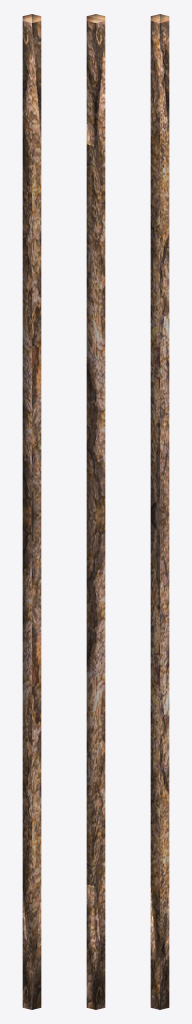
Rendered from bow_body.fbx.
3 renders of one model, left to right at view 1: azimuth 90°, elevation 25°; view 2: azimuth 150°, elevation 25°; view 3: azimuth 270°, elevation 25°, orthographic.
Visible parts, largest first — view 1: bow_body, piece_2, piece_1, piece_4, piece_3; view 2: bow_body, piece_2, piece_4; view 3: bow_body, piece_2, piece_1, piece_4, piece_3.
Boxes of the visible parts, box(x1,y1,x2,y2) form: bow_body: box(22, 25, 41, 1007); piece_2: box(22, 14, 31, 140); piece_1: box(32, 14, 41, 140); piece_4: box(22, 888, 31, 1009); piece_3: box(32, 888, 41, 1009); bow_body: box(86, 24, 105, 1003); piece_2: box(86, 16, 105, 146); piece_4: box(86, 884, 105, 1009); bow_body: box(150, 25, 169, 1007); piece_2: box(160, 14, 169, 140); piece_1: box(150, 14, 159, 140); piece_4: box(160, 888, 169, 1009); piece_3: box(150, 888, 159, 1009).
Bounding box in the file's own units: 30 × 1500 × 25.98.
1 material, 1 textured.
